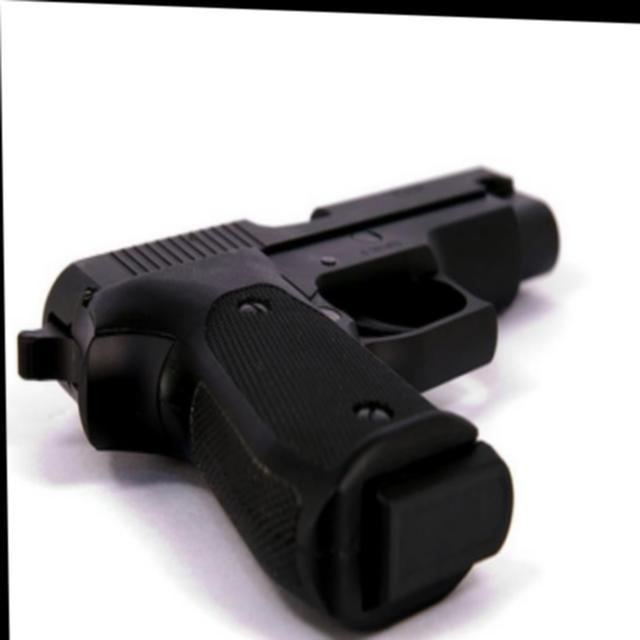weapon: (12, 144, 564, 636)
